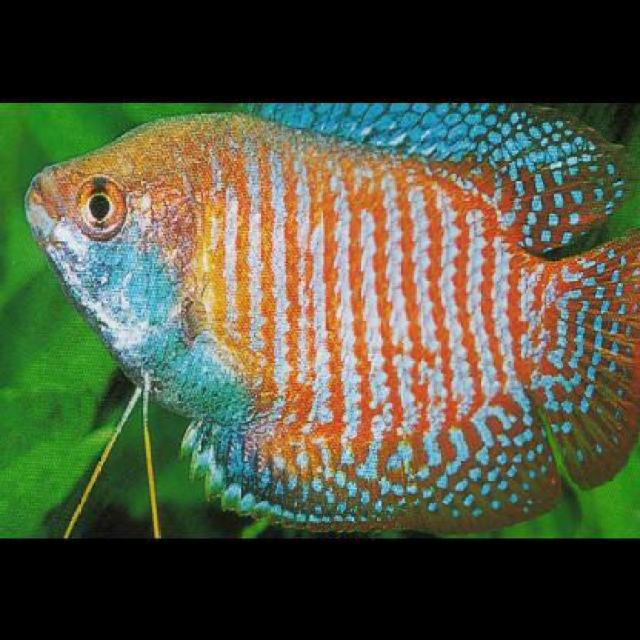Gourami: (20, 101, 638, 532)
